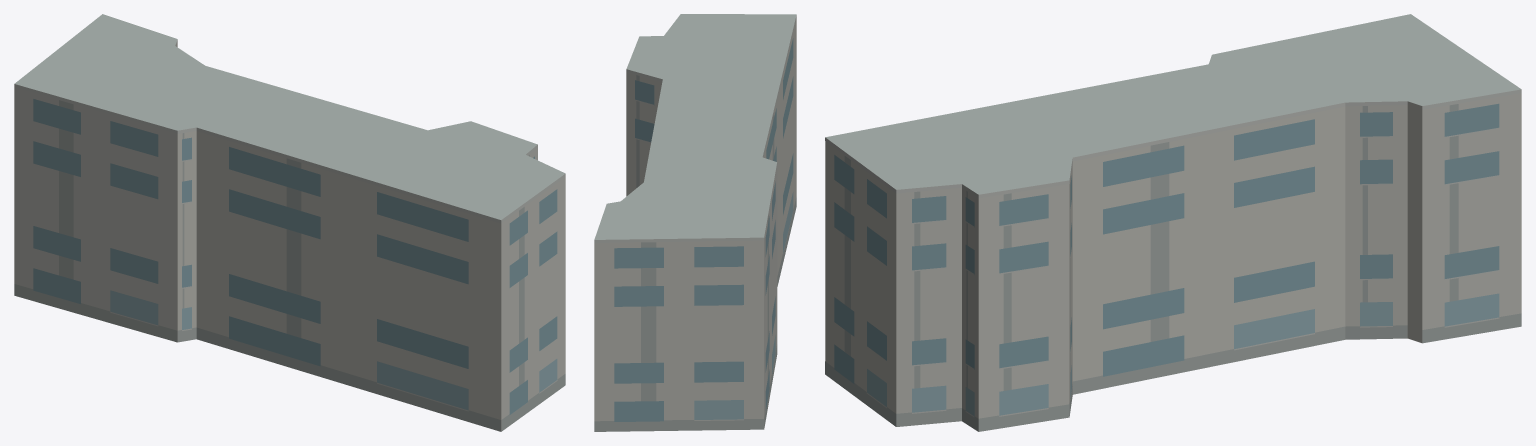
File: survey-upis-32798629.glb
The picture shows the model from 3 angles, left to right: view 1: azimuth 30°, elevation 25°; view 2: azimuth 150°, elevation 25°; view 3: azimuth 270°, elevation 25°; orthographic projection. The views are drawn at different scales.
Parts seen in each view (by area): view 1: survey-upis-32798629.tmp; view 2: survey-upis-32798629.tmp; view 3: survey-upis-32798629.tmp.
Part boxes in pixels (<box>): survey-upis-32798629.tmp: <box>14,14,565,431</box>; survey-upis-32798629.tmp: <box>594,14,796,431</box>; survey-upis-32798629.tmp: <box>825,14,1521,431</box>.
Size of the model in its own units: 24.93 by 15.25 by 40.6.
